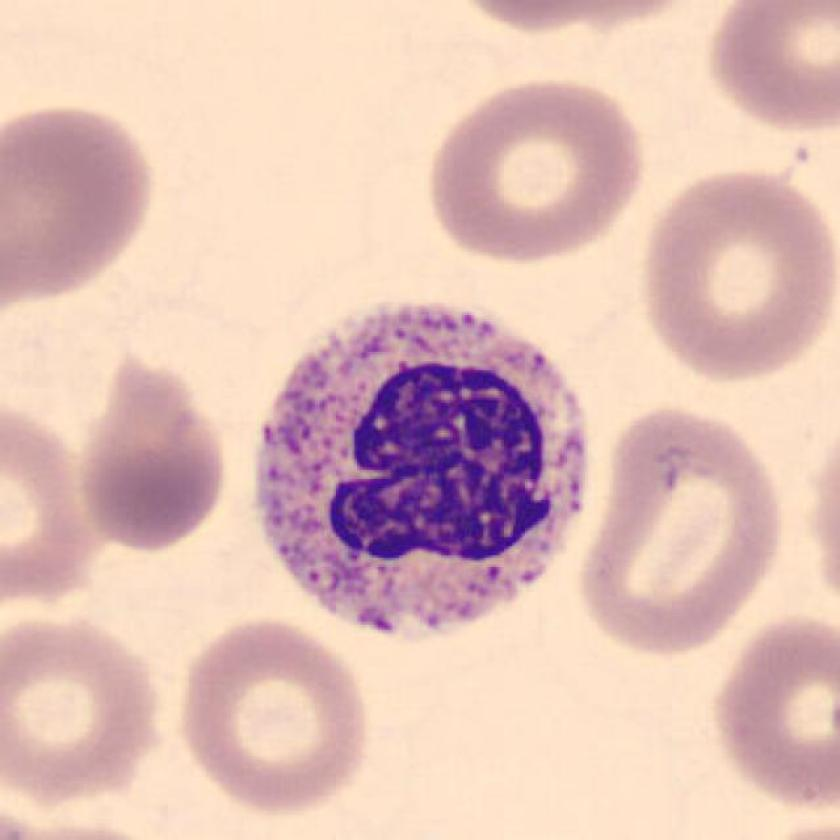neutrophil: (254, 303, 584, 635)
